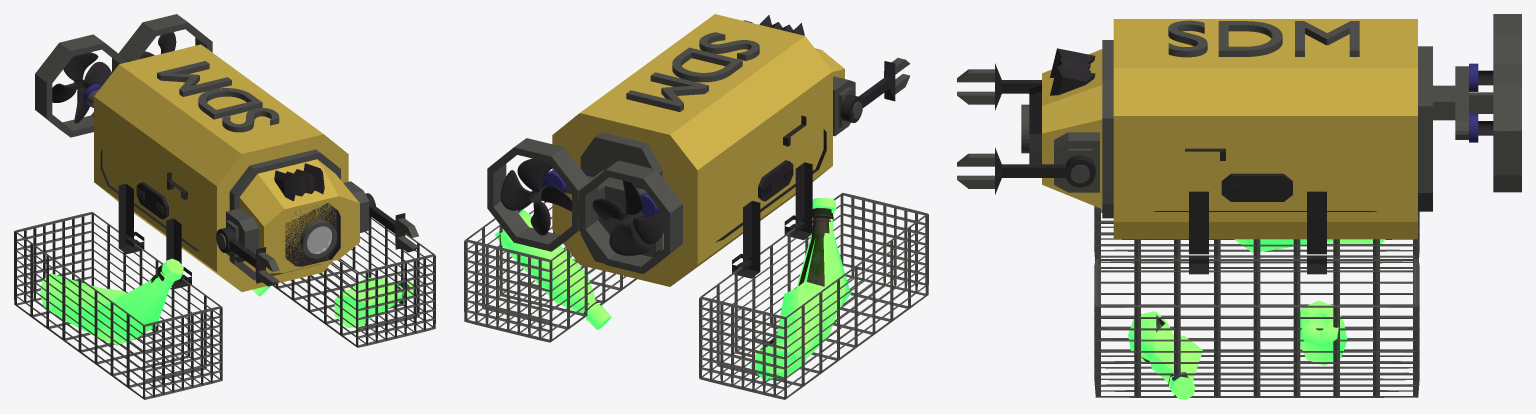
File: collector_with_bottle.glb
3 renders of one model, left to right at view 1: azimuth 30°, elevation 25°; view 2: azimuth 150°, elevation 25°; view 3: azimuth 270°, elevation 25°, orthographic. The views are drawn at different scales.
Parts seen in each view (by area): view 1: main_body, neck, Plastic_Bottle_01_GEO.006, camera_lens; view 2: main_body, neck, Plastic_Bottle_01_GEO.006, Plastic_Bottle_01_GEO.004, Circle.002; view 3: main_body, neck, Plastic_Bottle_01_GEO.006, Circle.002.
Boxes of the visible parts, x1=… form: main_body: x1=52, y1=32, x2=405, y2=291; neck: x1=14, y1=14, x2=435, y2=399; Plastic_Bottle_01_GEO.006: x1=40, y1=258, x2=413, y2=345; camera_lens: x1=307, y1=226, x2=332, y2=253; main_body: x1=500, y1=14, x2=895, y2=286; neck: x1=464, y1=20, x2=928, y2=399; Plastic_Bottle_01_GEO.006: x1=495, y1=198, x2=850, y2=380; Plastic_Bottle_01_GEO.004: x1=583, y1=208, x2=833, y2=349; Circle.002: x1=541, y1=170, x2=658, y2=217; main_body: x1=995, y1=19, x2=1493, y2=274; neck: x1=957, y1=14, x2=1521, y2=397; Plastic_Bottle_01_GEO.006: x1=1128, y1=239, x2=1385, y2=399; Circle.002: x1=1469, y1=63, x2=1478, y2=142.
Bounding box in the file's own units: 4.25 × 3.13 × 5.53.
6 materials, 6 textured.
